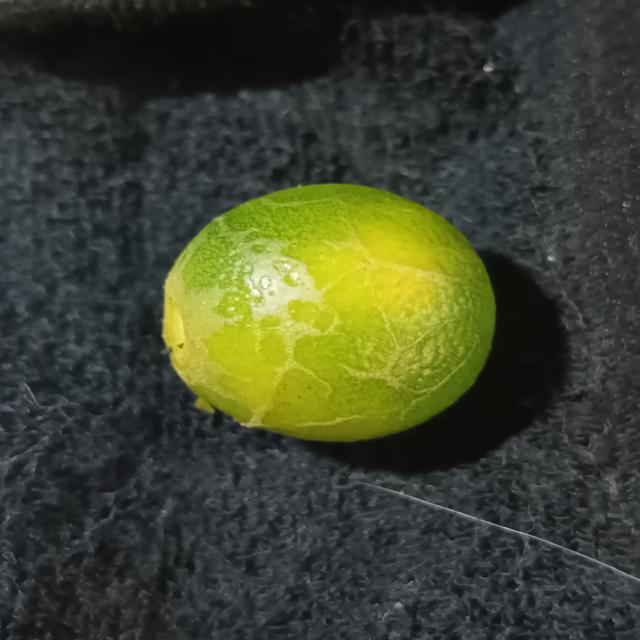thrips: (152, 183, 507, 442)
